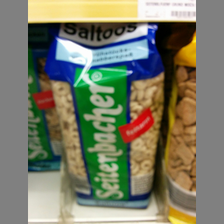cereal: (45, 26, 164, 210)
